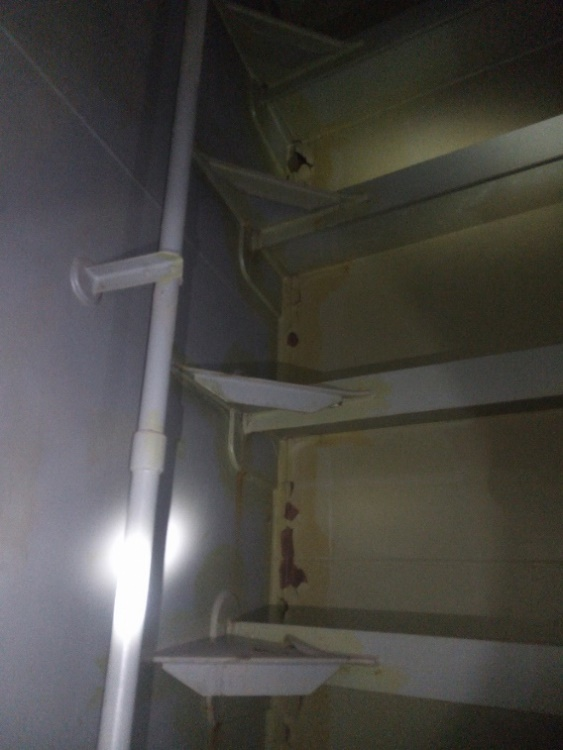corrosion: (268, 490, 333, 594), (279, 423, 369, 478), (221, 469, 252, 601), (186, 371, 236, 415), (280, 321, 322, 373), (279, 140, 316, 178)
